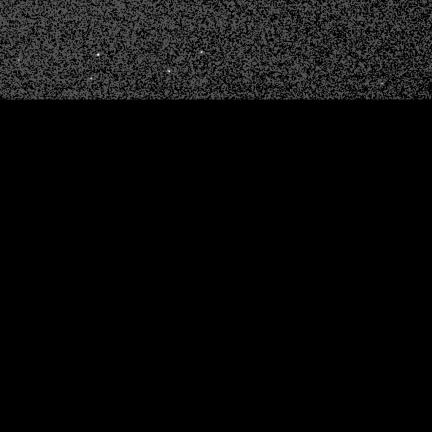blob: (97, 54, 100, 57)
